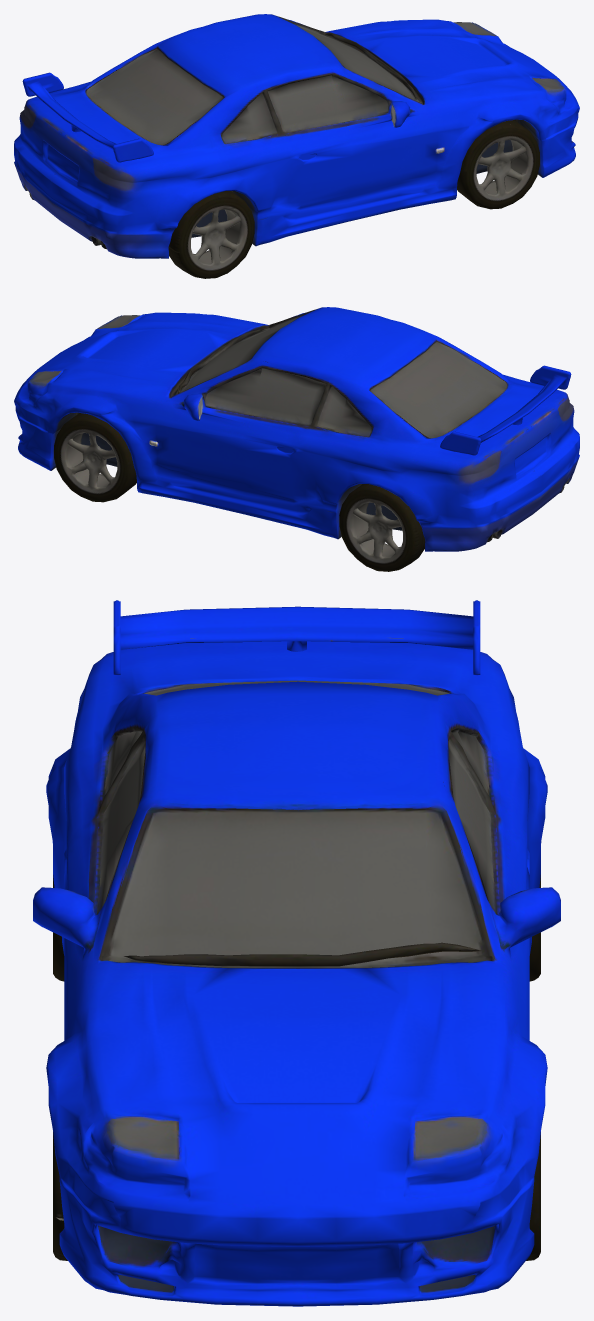
File: TerraRallyS.glb
3 renders of one model, top to bottom at view 1: azimuth 30°, elevation 25°; view 2: azimuth 150°, elevation 25°; view 3: azimuth 270°, elevation 25°, orthographic. The views are drawn at different scales.
Visible parts, largest first — view 1: tripo_node_1dccc528-373a-42e0-bfce-8abb17045fba; view 2: tripo_node_1dccc528-373a-42e0-bfce-8abb17045fba; view 3: tripo_node_1dccc528-373a-42e0-bfce-8abb17045fba.
Boxes of the visible parts, x1,y1,x2,y2 form: tripo_node_1dccc528-373a-42e0-bfce-8abb17045fba: (14,14,579,278); tripo_node_1dccc528-373a-42e0-bfce-8abb17045fba: (14,307,579,571); tripo_node_1dccc528-373a-42e0-bfce-8abb17045fba: (33,600,560,1306).
Size of the model in its own units: 4.03 by 1.3 by 1.85.
1 material, 1 textured.
